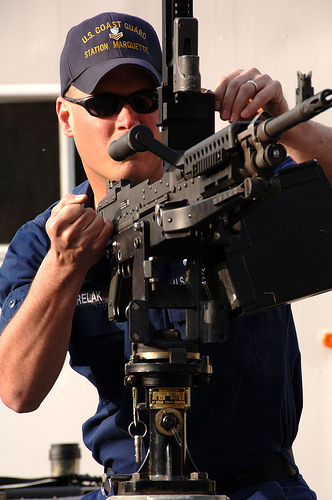rifle: (112, 122, 294, 230)
rifle in hand: (49, 83, 327, 271)
